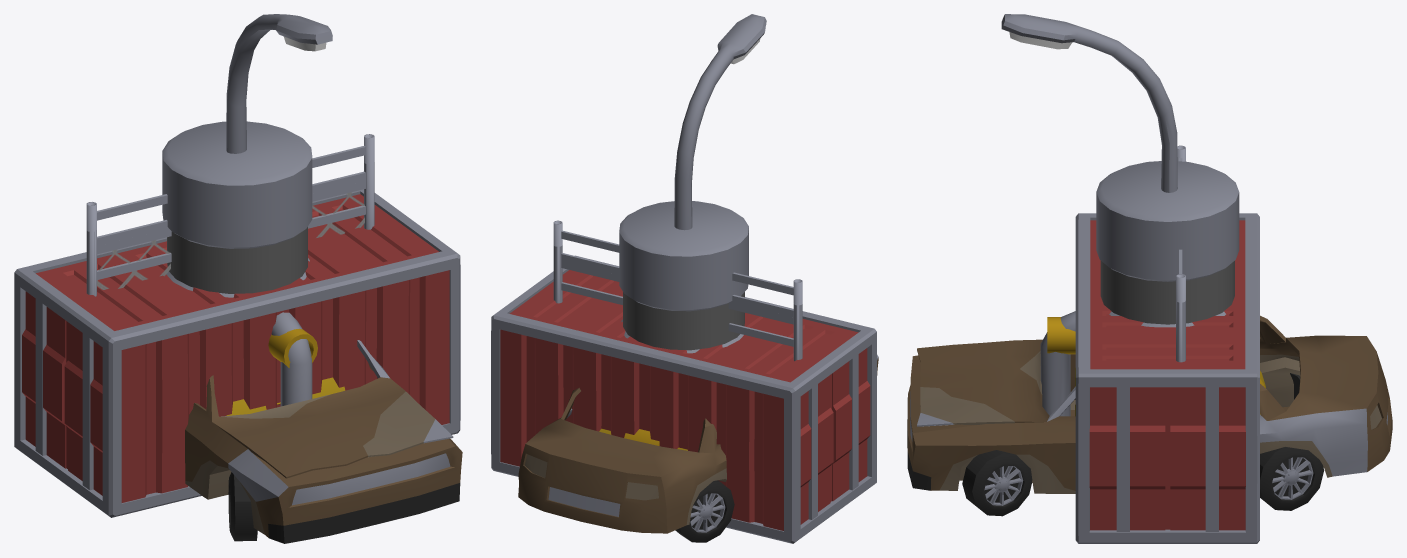
The model's file is props.glb.
3 views of the same model, side by side, from view 1: azimuth 30°, elevation 25°; view 2: azimuth 150°, elevation 25°; view 3: azimuth 270°, elevation 25° (orthographic). The views are drawn at different scales.
Parts seen in each view (by area): view 1: Container_Long, Debris_BrokenCar, WaterTank_Platform, Barrier_Large, StreetLight, MetalFence, Tank; view 2: Container_Long, Debris_BrokenCar, WaterTank_Platform, StreetLight, MetalFence, Barrier_Large; view 3: Container_Long, Debris_BrokenCar, WaterTank_Platform, StreetLight, Tank, Barrier_Large.
Boxes of the visible parts, x1,y1,x2,y2 form: Container_Long: (14,189,460,517); Debris_BrokenCar: (185,340,462,543); WaterTank_Platform: (162,121,312,406); Barrier_Large: (86,134,374,296); StreetLight: (226,14,332,153); MetalFence: (86,162,374,295); Tank: (226,328,345,415); Container_Long: (491,255,876,543); Debris_BrokenCar: (518,354,878,542); WaterTank_Platform: (619,201,748,353); StreetLight: (674,14,766,230); MetalFence: (553,245,802,361); Barrier_Large: (553,220,802,360); Container_Long: (1075,213,1259,543); Debris_BrokenCar: (907,315,1392,516); WaterTank_Platform: (1040,161,1239,416); StreetLight: (1001,14,1177,192); Tank: (1047,317,1265,416); Barrier_Large: (1176,145,1185,362).
Bounding box in the file's own units: 4.36 × 5.96 × 5.49.
Materials: 22 (1 with a texture image).
